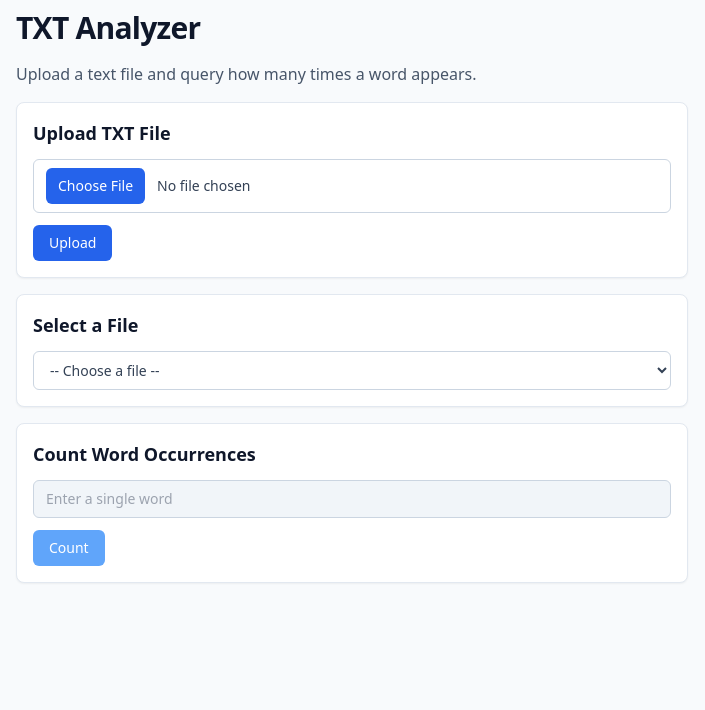
App › loads previous files and runs word count on selected file
Select "old.txt (4/16/2026, 12:00:00 PM)" in the dropdown: {"x": 352, "y": 370} 33,351 -> 671,390
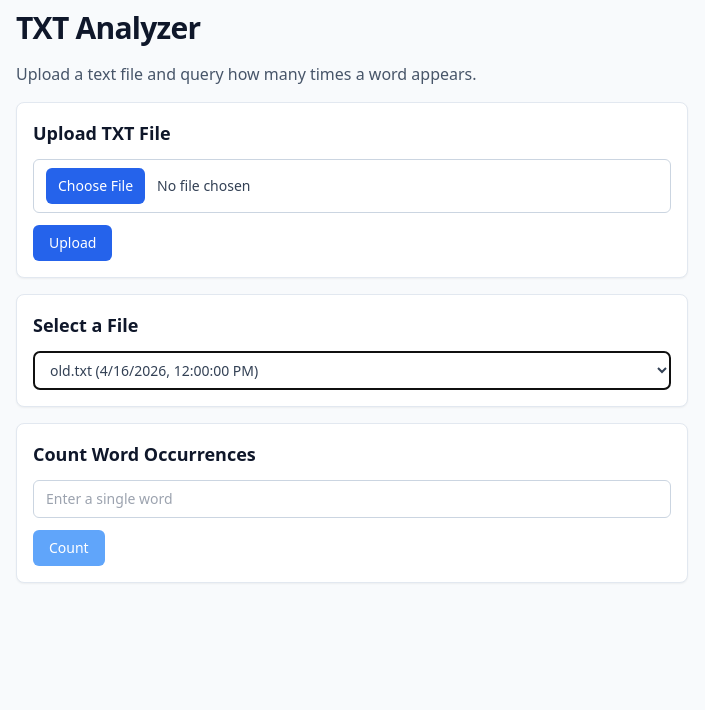
In the field with placeholder "Enter a single word": {"x": 352, "y": 499} 33,480 -> 671,518, type "hello"
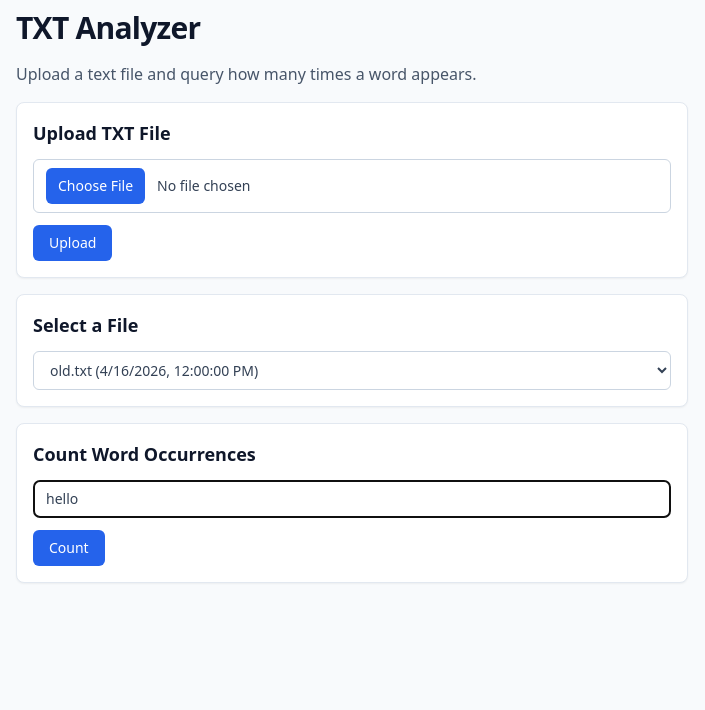
Click the button "Count": {"x": 69, "y": 548} 33,530 -> 105,566
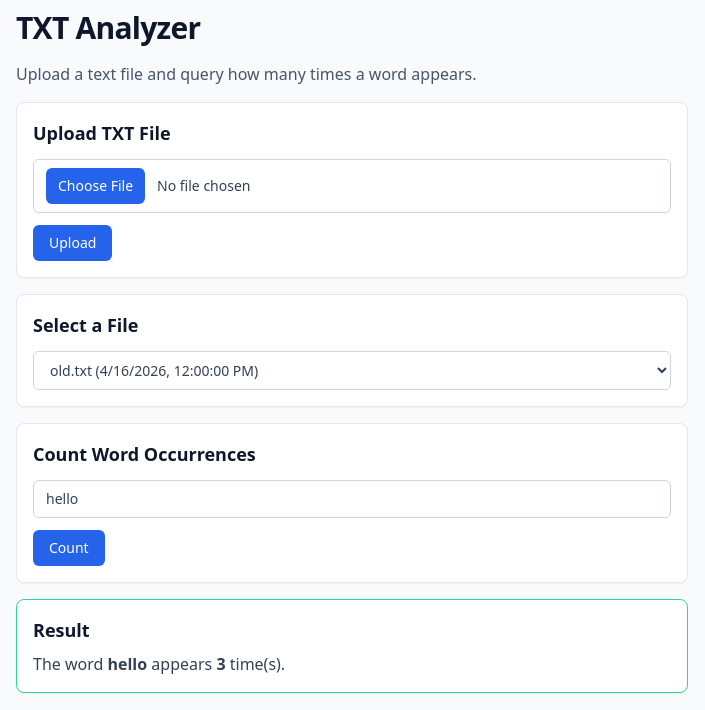
Result: the heading "Result" is shown at 33,618 -> 90,642
Result: the text "The word hello appears 3 time(s)." is shown at 33,653 -> 285,675
